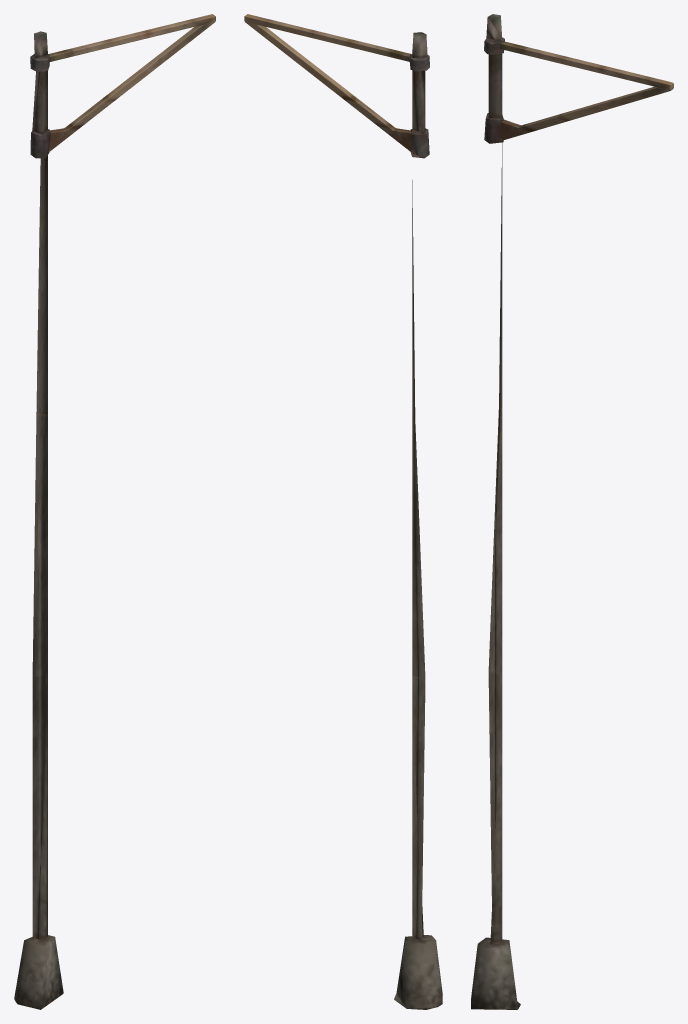
Rendered from power-pole.lod1.glb.
The picture shows the model from 3 angles, left to right: view 1: azimuth 30°, elevation 25°; view 2: azimuth 150°, elevation 25°; view 3: azimuth 330°, elevation 25°; orthographic projection. The views are drawn at different scales.
Visible parts, largest first — view 1: Cylinder_Material_0; view 2: Cylinder_Material_0; view 3: Cylinder_Material_0.
Part boxes in pixels (x1,y1,x2,y2): Cylinder_Material_0: (14,14,215,1009); Cylinder_Material_0: (244,14,442,1009); Cylinder_Material_0: (471,14,673,1009).
Bounding box in the file's own units: 1.92 × 9 × 0.4197.
1 material, 1 textured.
